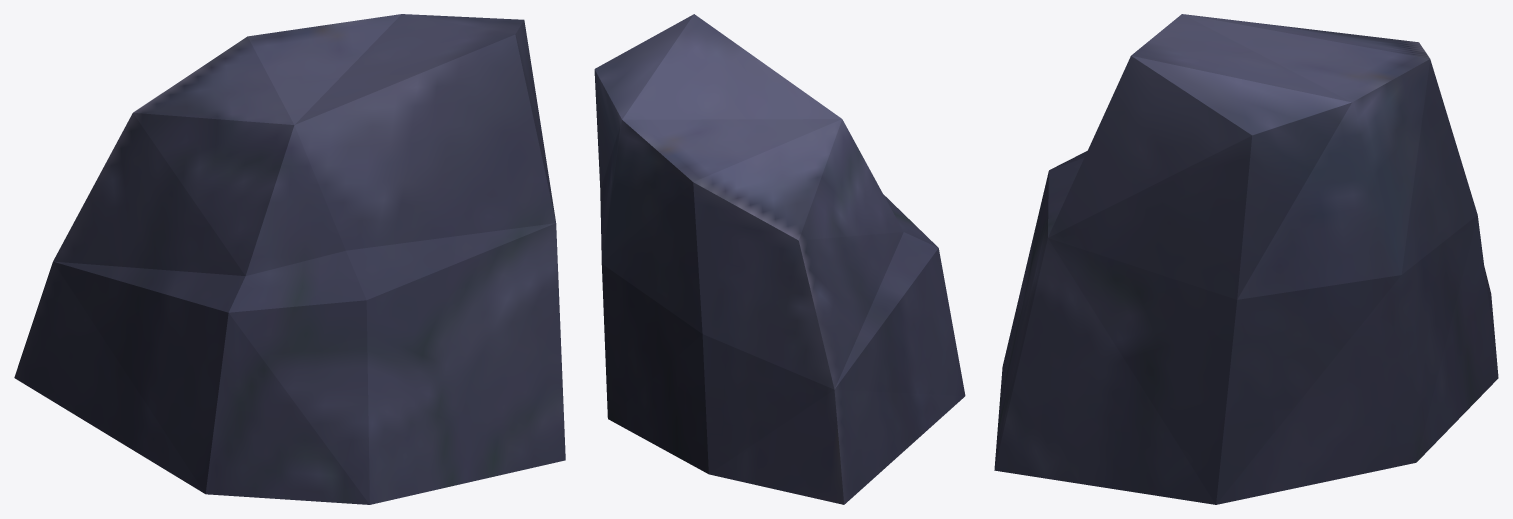
File: Area14_30.fbx
3 views of the same model, side by side, from view 1: azimuth 30°, elevation 25°; view 2: azimuth 150°, elevation 25°; view 3: azimuth 270°, elevation 25° (orthographic). The views are drawn at different scales.
Visible parts, largest first — view 1: Area14_30; view 2: Area14_30; view 3: Area14_30.
Boxes of the visible parts, x1,y1,x2,y2 form: Area14_30: (14, 14, 565, 504); Area14_30: (594, 14, 965, 504); Area14_30: (994, 14, 1498, 504).
Bounding box in the file's own units: 275 × 247 × 268.
